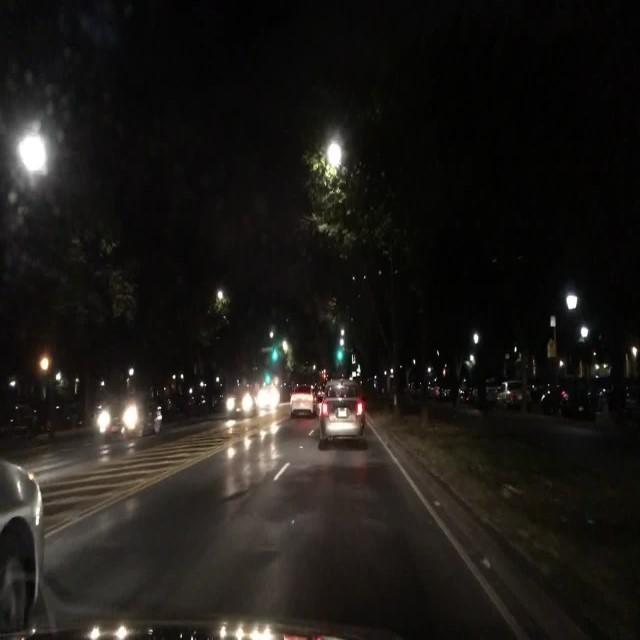normal: (301, 369, 380, 450), (496, 378, 524, 406), (290, 394, 317, 418)
